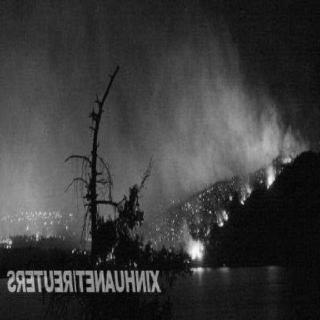Fire: (152, 137, 292, 264)
